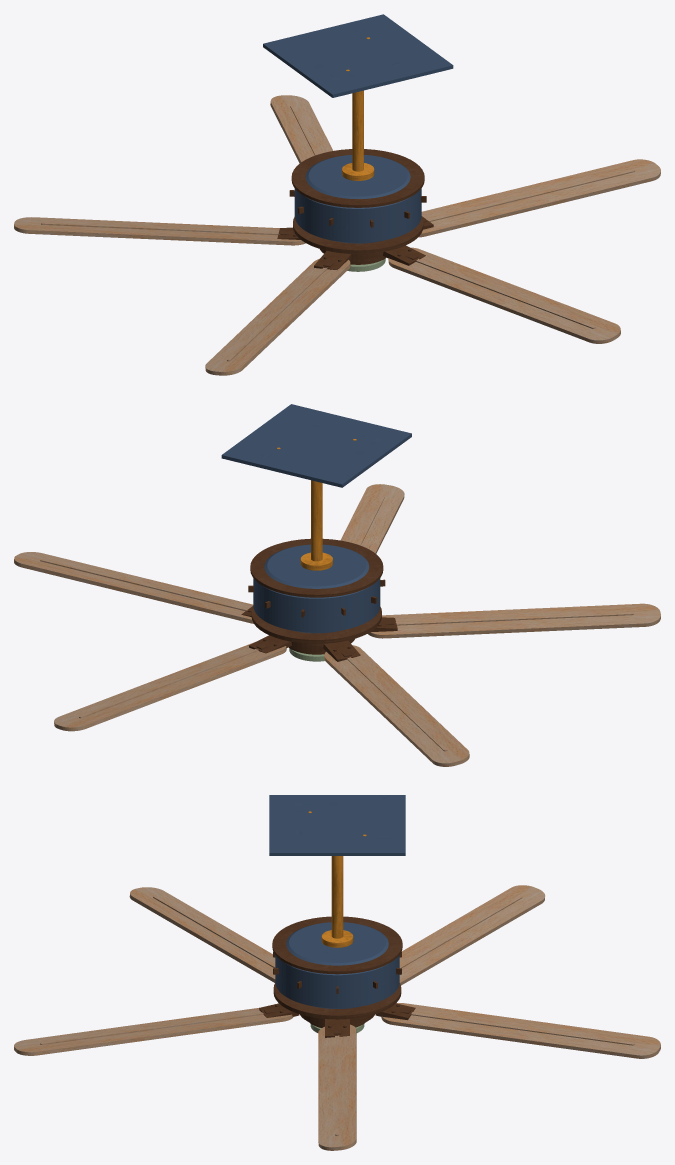
File: ceiling_fan__0001.glb
The picture shows the model from 3 angles, top to bottom: view 1: azimuth 30°, elevation 25°; view 2: azimuth 150°, elevation 25°; view 3: azimuth 270°, elevation 25°; orthographic projection. The views are drawn at different scales.
Parts seen in each view (by area): view 1: ceiling_mount::square_ceiling_plate, motor_housing::motor_shell, blade_assembly::blade_surface_0, blade_assembly::blade_surface_4, blade_assembly::blade_surface_2, blade_assembly::blade_surface_3, motor_housing::upper_trim_ring, blade_assembly::blade_surface_1, ceiling_mount::flat_canopy_boss, motor_housing::lower_trim_ring, ceiling_mount::downrod; view 2: ceiling_mount::square_ceiling_plate, motor_housing::motor_shell, blade_assembly::blade_surface_3, blade_assembly::blade_surface_2, blade_assembly::blade_surface_1, blade_assembly::blade_surface_0, motor_housing::upper_trim_ring, blade_assembly::blade_surface_4, ceiling_mount::flat_canopy_boss, motor_housing::lower_trim_ring, ceiling_mount::downrod; view 3: motor_housing::motor_shell, ceiling_mount::square_ceiling_plate, blade_assembly::blade_surface_1, blade_assembly::blade_surface_2, blade_assembly::blade_surface_4, blade_assembly::blade_surface_0, blade_assembly::blade_surface_3, motor_housing::upper_trim_ring, ceiling_mount::flat_canopy_boss, motor_housing::lower_trim_ring, ceiling_mount::downrod.
Part boxes in pixels (box(x1,y1,x2,y2)): ceiling_mount::square_ceiling_plate: box(263, 14, 453, 97); motor_housing::motor_shell: box(294, 155, 421, 243); blade_assembly::blade_surface_0: box(419, 159, 660, 237); blade_assembly::blade_surface_4: box(388, 247, 620, 343); blade_assembly::blade_surface_2: box(14, 217, 305, 245); blade_assembly::blade_surface_3: box(205, 259, 350, 375); motor_housing::upper_trim_ring: box(291, 149, 424, 207); blade_assembly::blade_surface_1: box(270, 95, 333, 163); ceiling_mount::flat_canopy_boss: box(320, 38, 396, 70); motor_housing::lower_trim_ring: box(293, 216, 423, 254); ceiling_mount::downrod: box(352, 90, 363, 171); ceiling_mount::square_ceiling_plate: box(221, 404, 411, 487); motor_housing::motor_shell: box(253, 544, 380, 633); blade_assembly::blade_surface_3: box(367, 603, 660, 638); blade_assembly::blade_surface_2: box(324, 645, 469, 766); blade_assembly::blade_surface_1: box(54, 642, 286, 731); blade_assembly::blade_surface_0: box(14, 552, 253, 623); motor_housing::upper_trim_ring: box(250, 538, 383, 597); blade_assembly::blade_surface_4: box(340, 484, 404, 553); ceiling_mount::flat_canopy_boss: box(278, 428, 354, 459); motor_housing::lower_trim_ring: box(251, 606, 381, 643); ceiling_mount::downrod: box(311, 480, 322, 561); motor_housing::motor_shell: box(275, 922, 399, 1008); ceiling_mount::square_ceiling_plate: box(269, 795, 405, 855); blade_assembly::blade_surface_1: box(381, 1003, 660, 1058); blade_assembly::blade_surface_2: box(399, 885, 545, 985); blade_assembly::blade_surface_4: box(14, 1008, 293, 1055); blade_assembly::blade_surface_0: box(318, 1024, 356, 1150); blade_assembly::blade_surface_3: box(129, 887, 275, 982); motor_housing::upper_trim_ring: box(272, 916, 402, 974); ceiling_mount::flat_canopy_boss: box(300, 808, 374, 839); motor_housing::lower_trim_ring: box(273, 983, 401, 1019); ceiling_mount::downrod: box(331, 856, 343, 938).
Bounding box in the file's own units: 2.04 × 0.735 × 2.14.
Materials: 5 (5 with a texture image).
